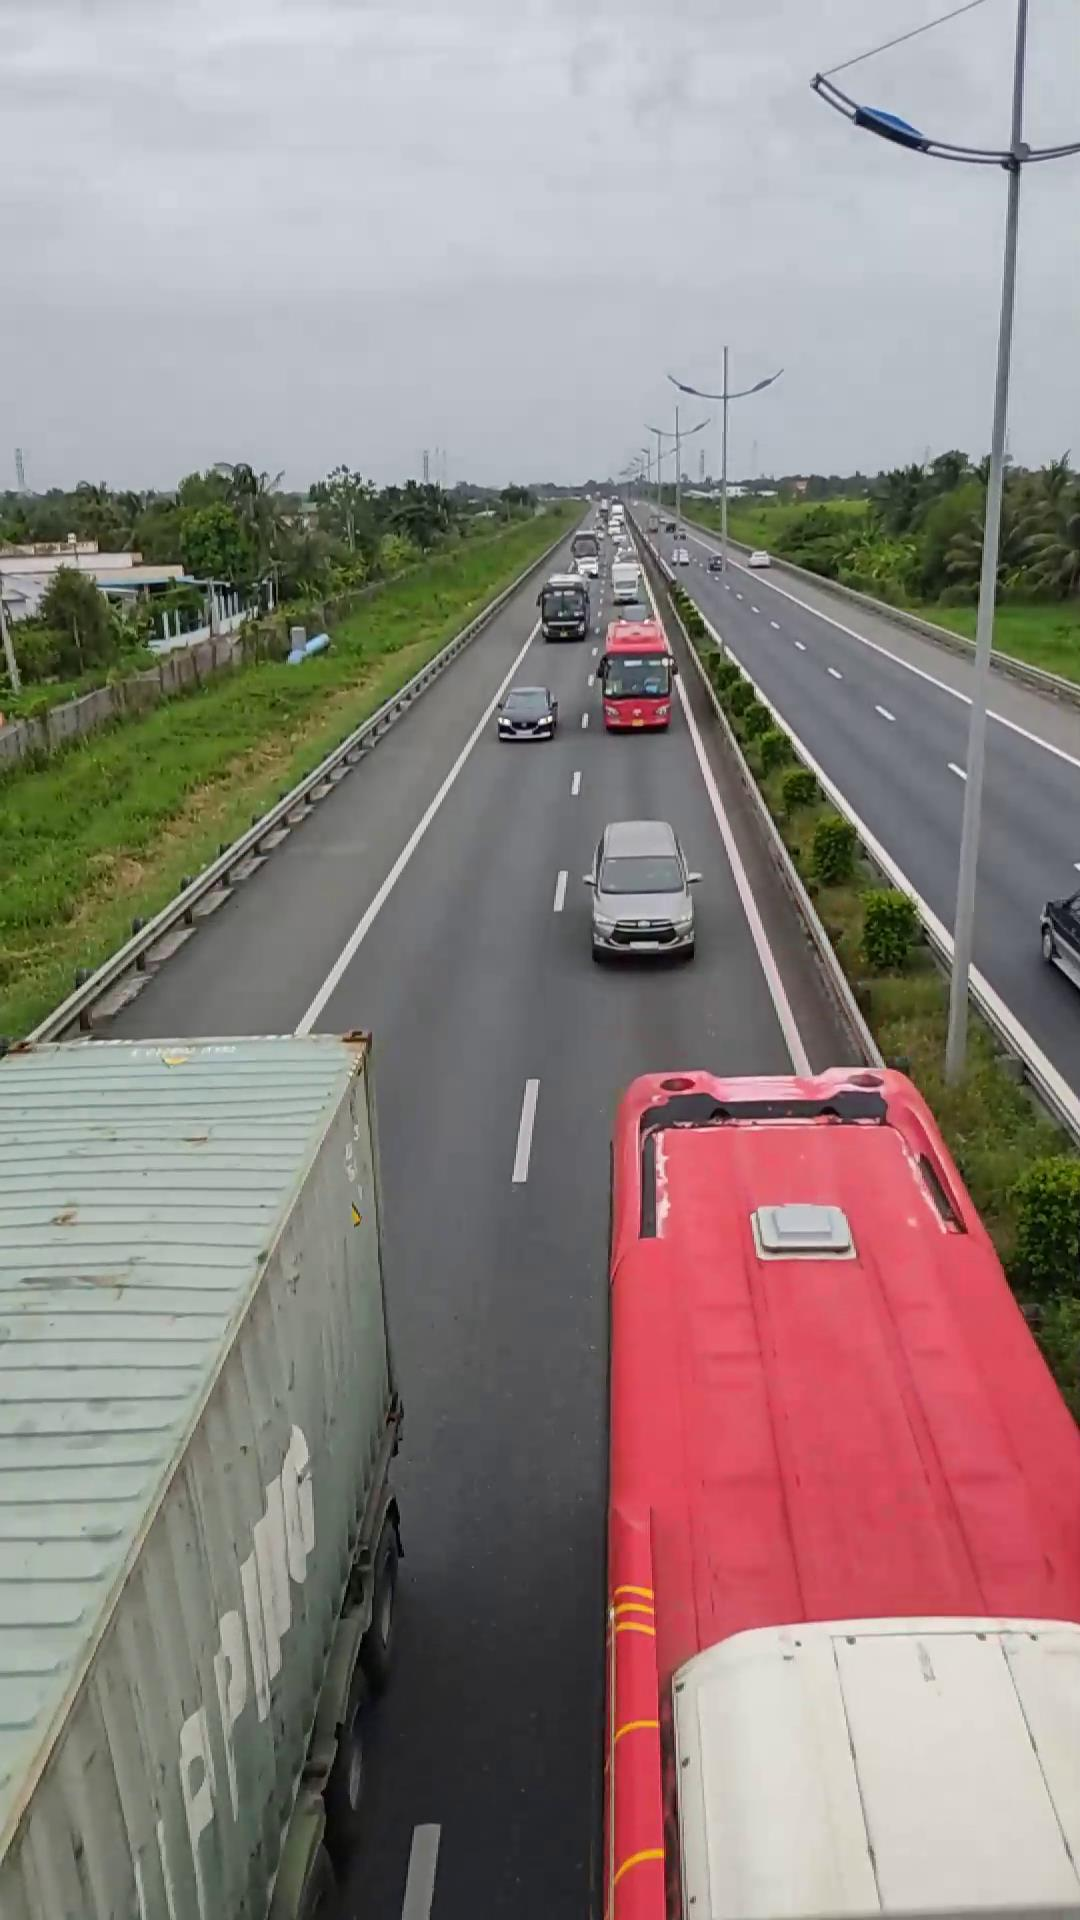bus: (608, 1069, 1080, 1914)
car: (582, 818, 699, 961)
container: (0, 1020, 418, 1916)
